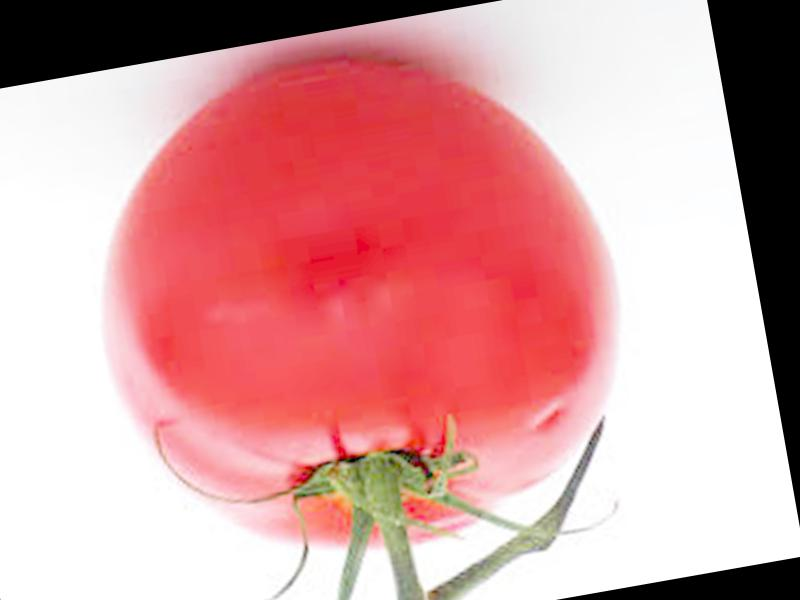Tomato: (57, 14, 649, 589)
